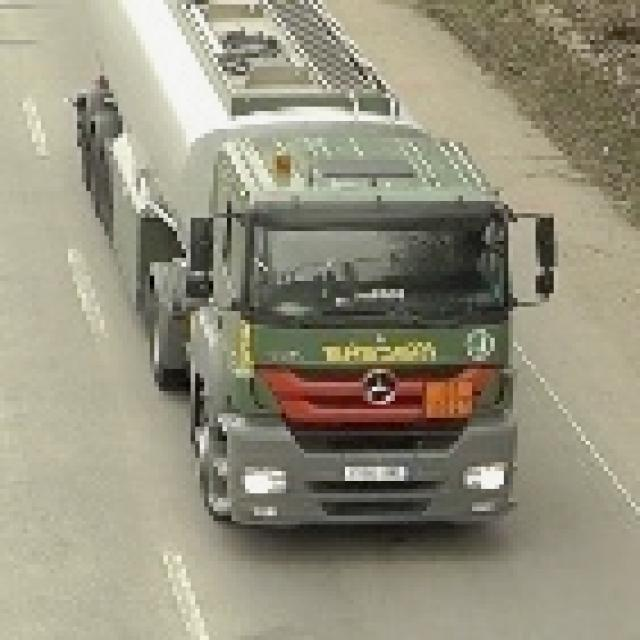truck: (74, 1, 555, 530)
